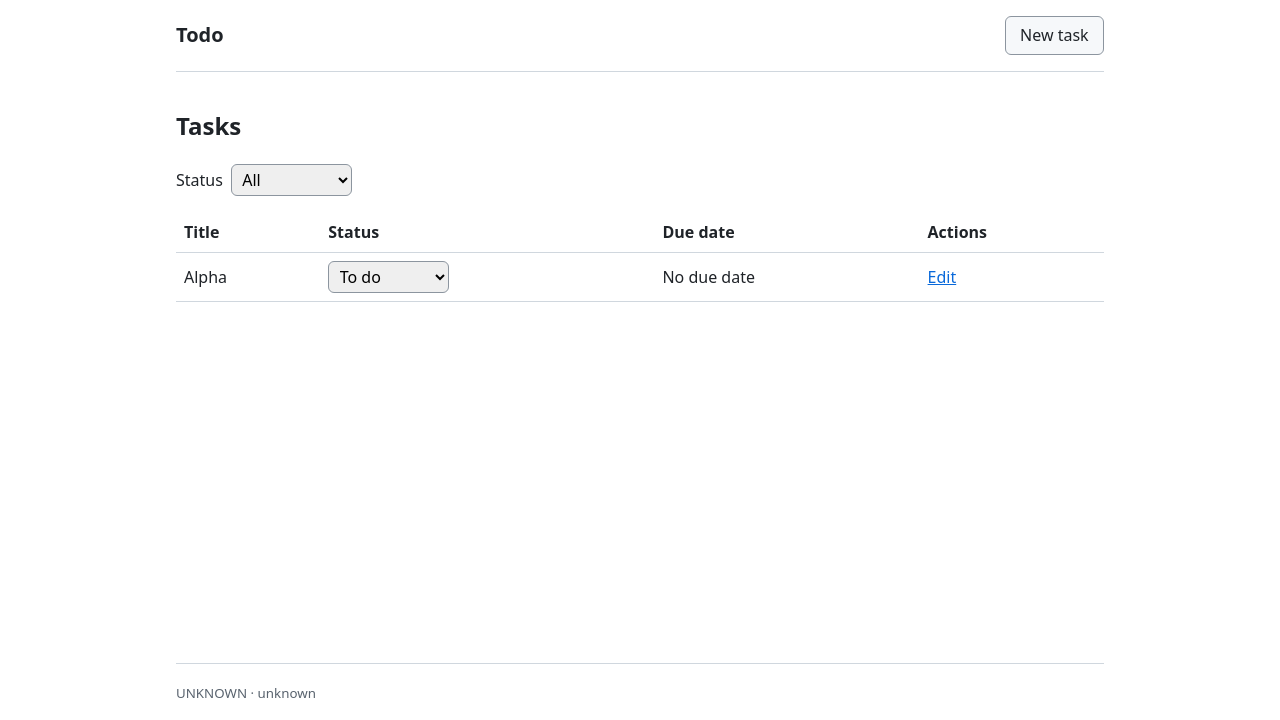
SCRUM-6 task list status › SCRUM-6-AC-09, SCRUM-6-NFR-06: changing a status sends only a PATCH, stays on the list and announces the change
Select "Done" in the dropdown named "Status for Alpha" at (389, 277), box [328, 261, 449, 293]
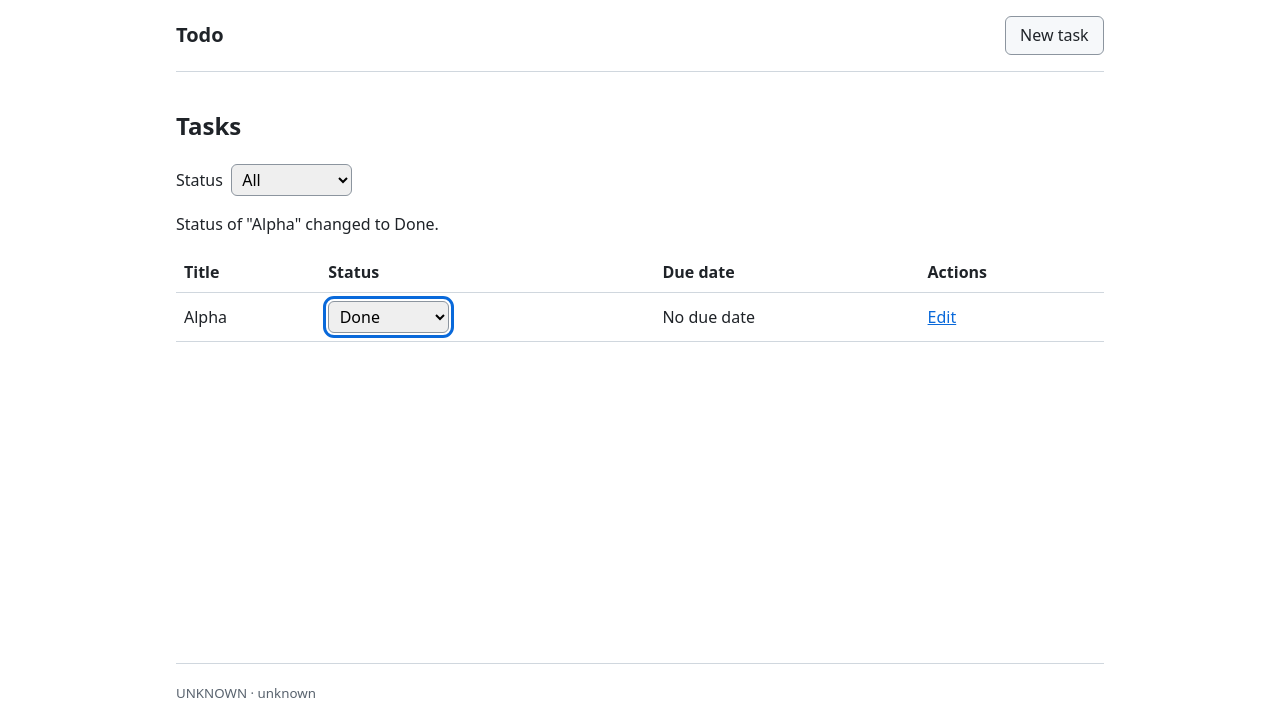
Expected: the message reads "Status of \"Alpha\" changed to Done.", [176, 213, 439, 235]
